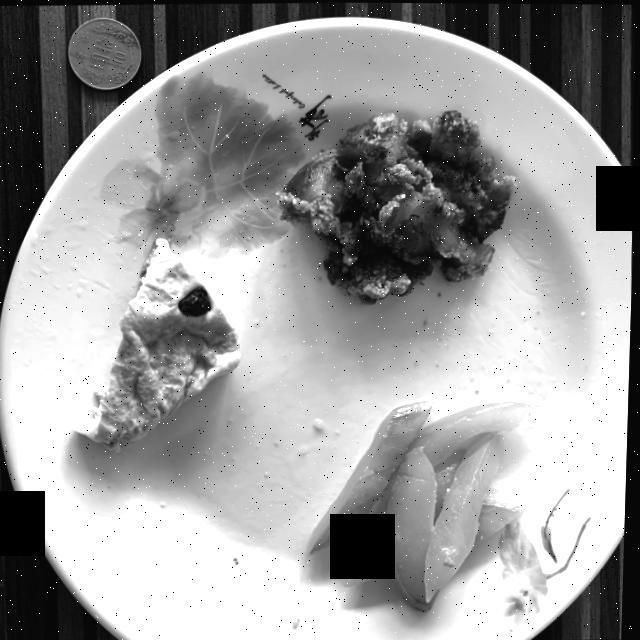coin: (68, 17, 141, 89)
red grilled pork: (278, 110, 516, 302)
